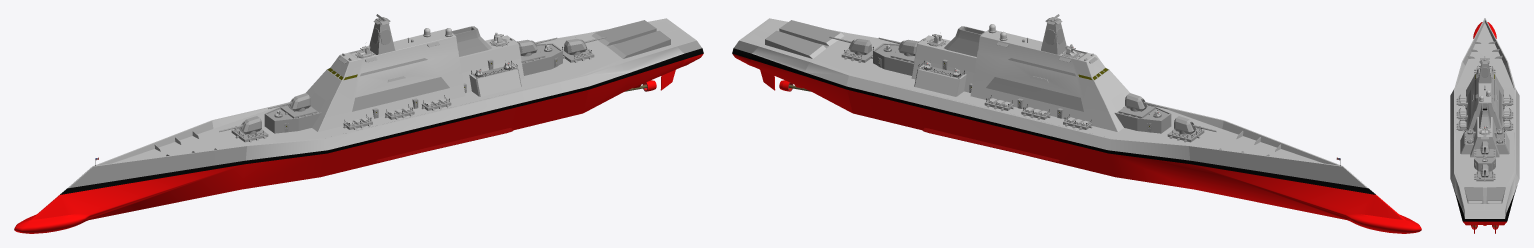
Rendered from Destroyer-1.fbx.
3 views of the same model, side by side, from view 1: azimuth 30°, elevation 25°; view 2: azimuth 150°, elevation 25°; view 3: azimuth 270°, elevation 25° (orthographic). The views are drawn at different scales.
Parts seen in each view (by area): view 1: polySurface2379; view 2: polySurface2379; view 3: polySurface2379.
Boxes of the visible parts, x1,y1,x2,y2 form: polySurface2379: [14, 14, 703, 233]; polySurface2379: [732, 14, 1421, 233]; polySurface2379: [1450, 18, 1519, 233].
Size of the model in its own units: 45.16 by 8.69 by 6.1.
